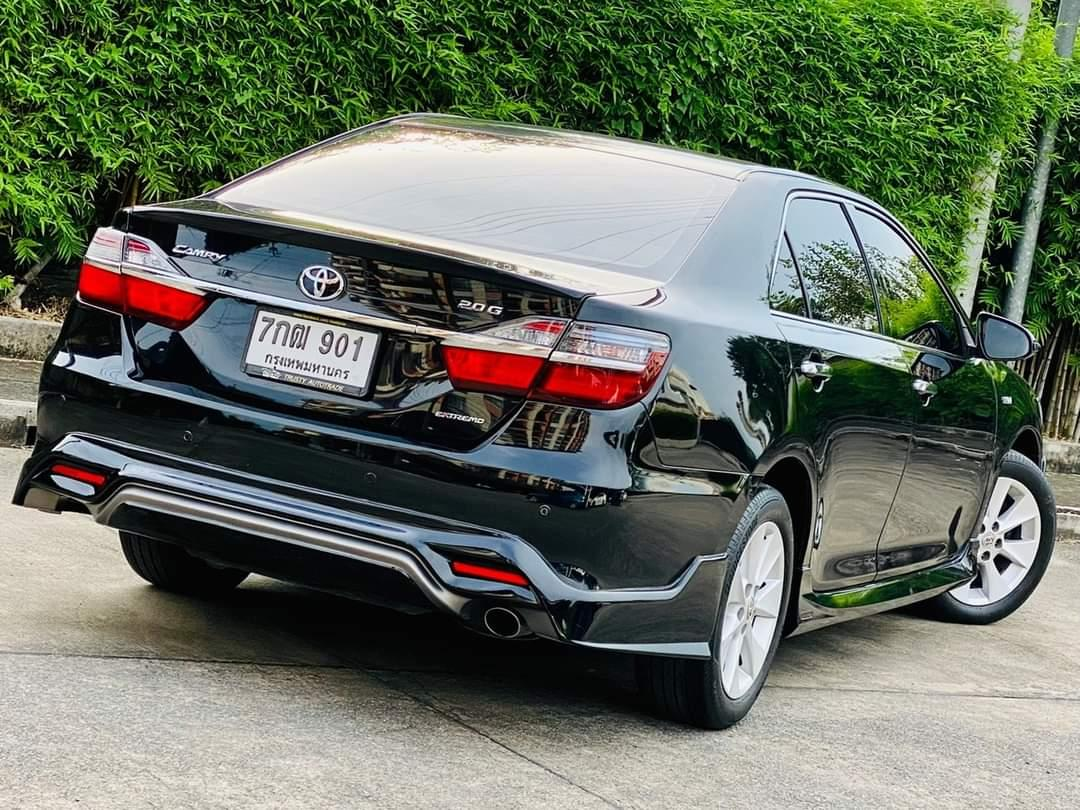license-plate: (239, 298, 384, 401)
